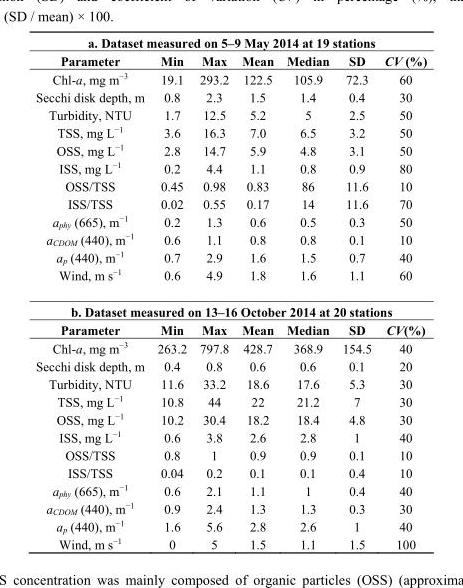table: (35, 35, 426, 551)
table column: (35, 35, 150, 551), (279, 35, 335, 551), (377, 35, 426, 551), (234, 35, 279, 551), (150, 35, 192, 551), (192, 35, 234, 551), (335, 35, 377, 551)
table projected row header: (35, 293, 426, 320), (35, 35, 426, 51)
table row: (35, 265, 426, 293), (35, 293, 426, 320), (35, 51, 426, 69), (35, 69, 426, 87), (35, 87, 426, 105), (35, 122, 426, 140), (35, 140, 426, 158), (35, 158, 426, 176), (35, 176, 426, 194), (35, 194, 426, 212), (35, 229, 426, 247), (35, 247, 426, 265), (35, 320, 426, 338), (35, 338, 426, 356), (35, 356, 426, 374), (35, 391, 426, 409), (35, 409, 426, 427), (35, 427, 426, 445), (35, 445, 426, 463), (35, 463, 426, 481), (35, 498, 426, 516), (35, 516, 426, 534), (35, 105, 426, 122), (35, 212, 426, 229), (35, 374, 426, 391), (35, 481, 426, 498), (35, 534, 426, 551), (35, 35, 426, 51)
